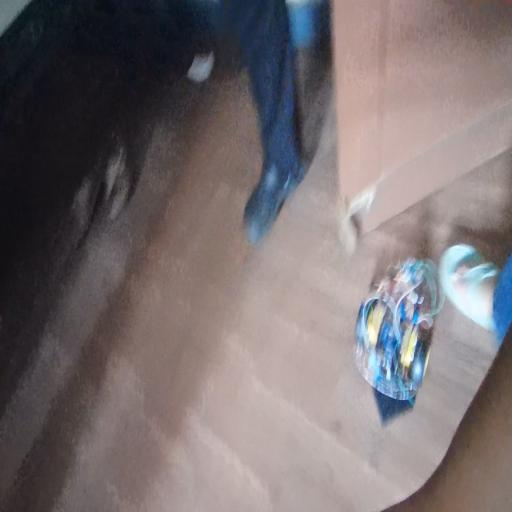car: (368, 270, 432, 423)
